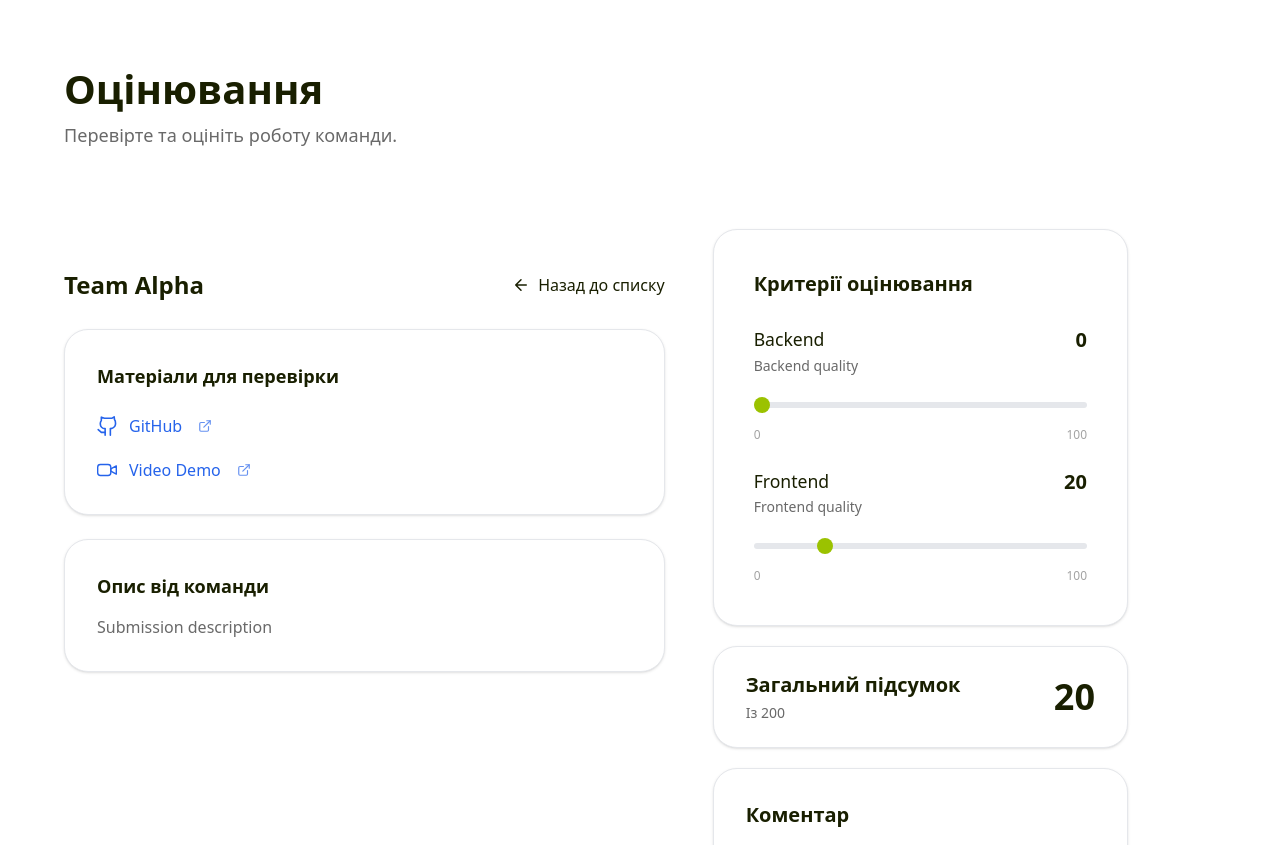
Test: jury grading page › updates the slider-backed state and total score from manual score input
Replace the text in the number field named "Score for Frontend" with "40" at (1070, 481), box [1053, 468, 1087, 494]
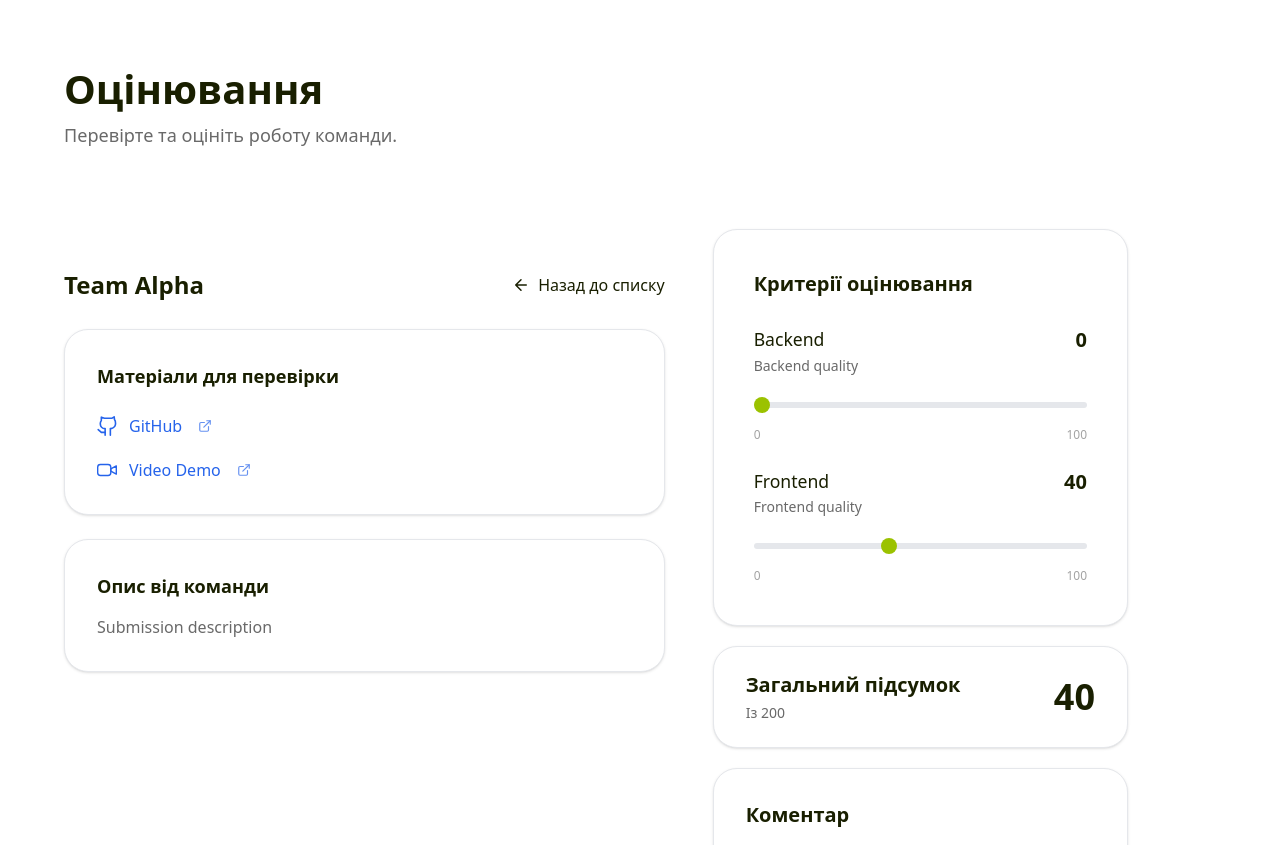
Expected: the element named "score" holds "40", [754, 326, 1087, 585]
Result: the slider named "Score slider for Frontend" holds "40" at [754, 543, 1087, 549]
Result: the text with test id "total-score" reads "40" at [1054, 672, 1095, 721]
